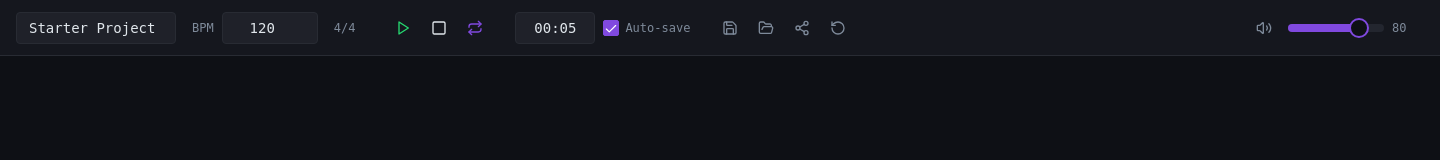
Test: TopBar › updates bpm within bounds
Replace the text in the number field showing "120" with "150" at (270, 28), box x1=222 y1=12 x2=318 y2=44
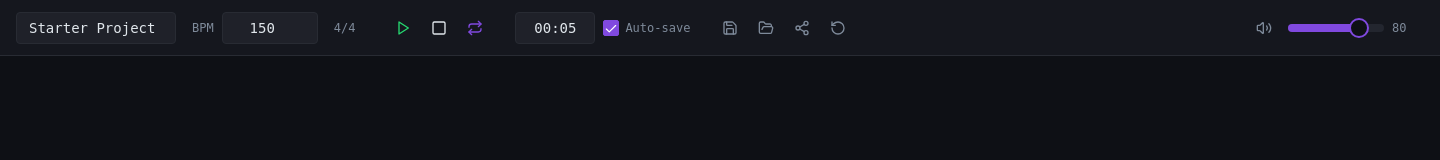
Note: out of bounds clamps
Replace the text in the number field showing "120" with "999" at (270, 28), box x1=222 y1=12 x2=318 y2=44
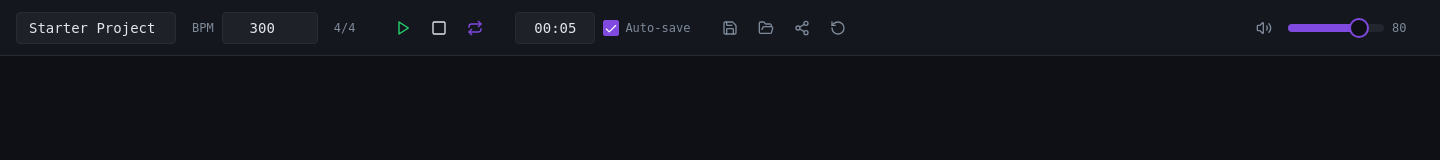
Expected: the number field showing "120" holds "300"
Replace the text in the number field showing "120" with "1" at (270, 28), box x1=222 y1=12 x2=318 y2=44
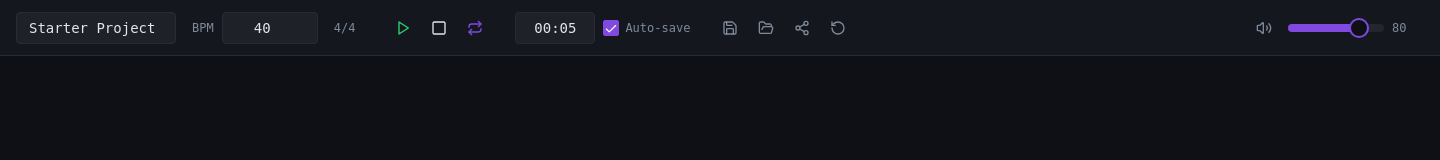
Expected: the number field showing "120" holds "40", x1=222 y1=12 x2=318 y2=44
